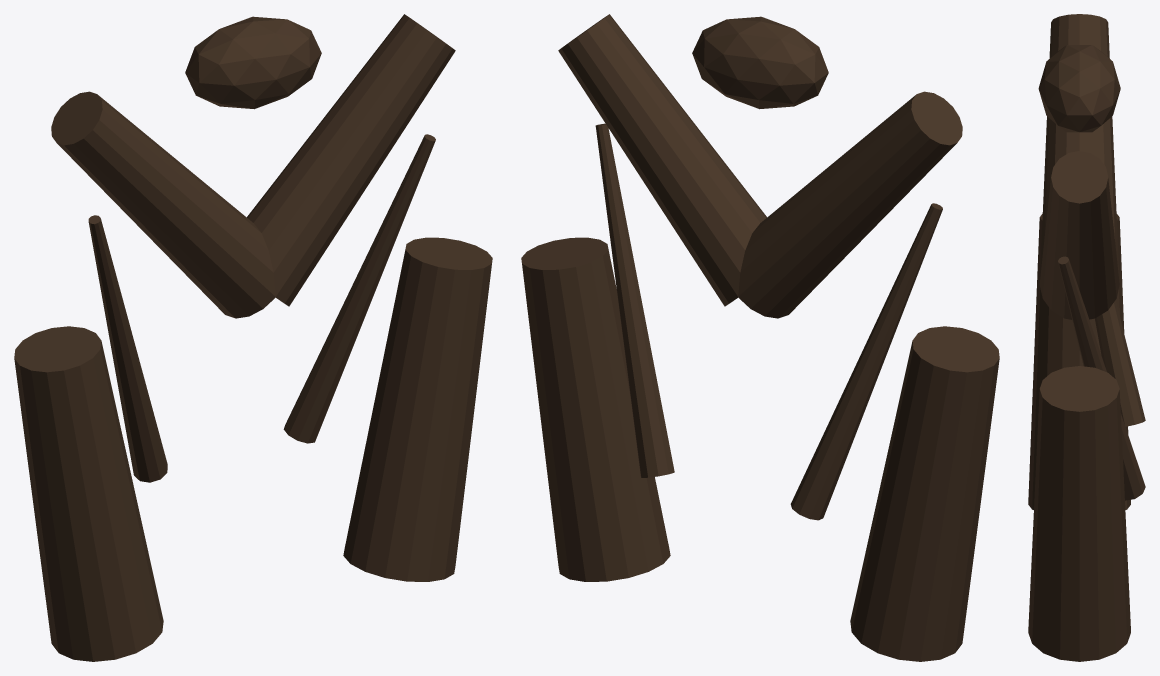
Rendered from portal_raiz.glb.
3 views of the same model, side by side, from view 1: azimuth 30°, elevation 25°; view 2: azimuth 150°, elevation 25°; view 3: azimuth 270°, elevation 25° (orthographic). The views are drawn at different scales.
Visible parts, largest first — view 1: Portal_Raiz_Monumental; view 2: Portal_Raiz_Monumental; view 3: Portal_Raiz_Monumental.
Boxes of the visible parts, left/top/right/bottom form: Portal_Raiz_Monumental: left=14, top=14, right=492, bottom=661; Portal_Raiz_Monumental: left=521, top=14, right=999, bottom=661; Portal_Raiz_Monumental: left=1028, top=14, right=1145, bottom=661.
Size of the model in its own units: 4.24 by 5.07 by 1.03.
